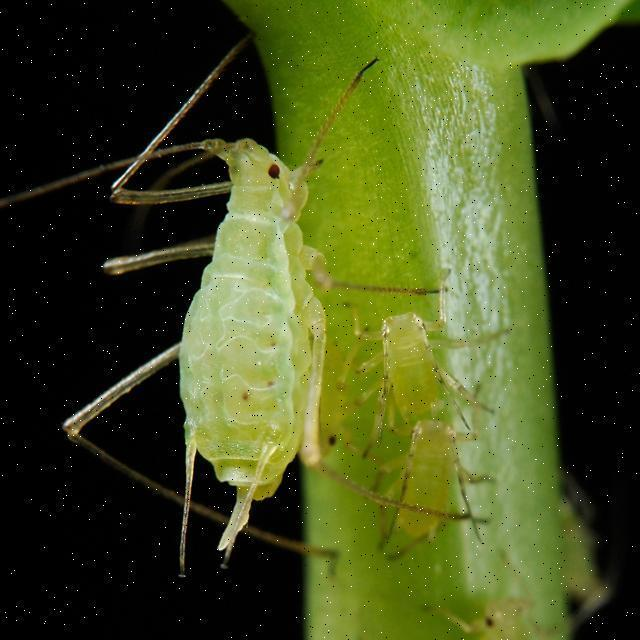Aphids: (107, 52, 388, 608), (368, 406, 505, 587), (343, 262, 461, 401)
